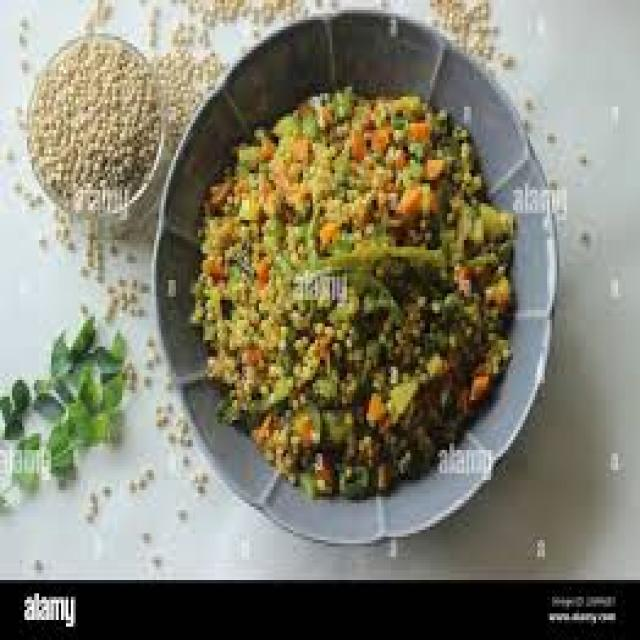UPMA: (193, 90, 513, 490)
